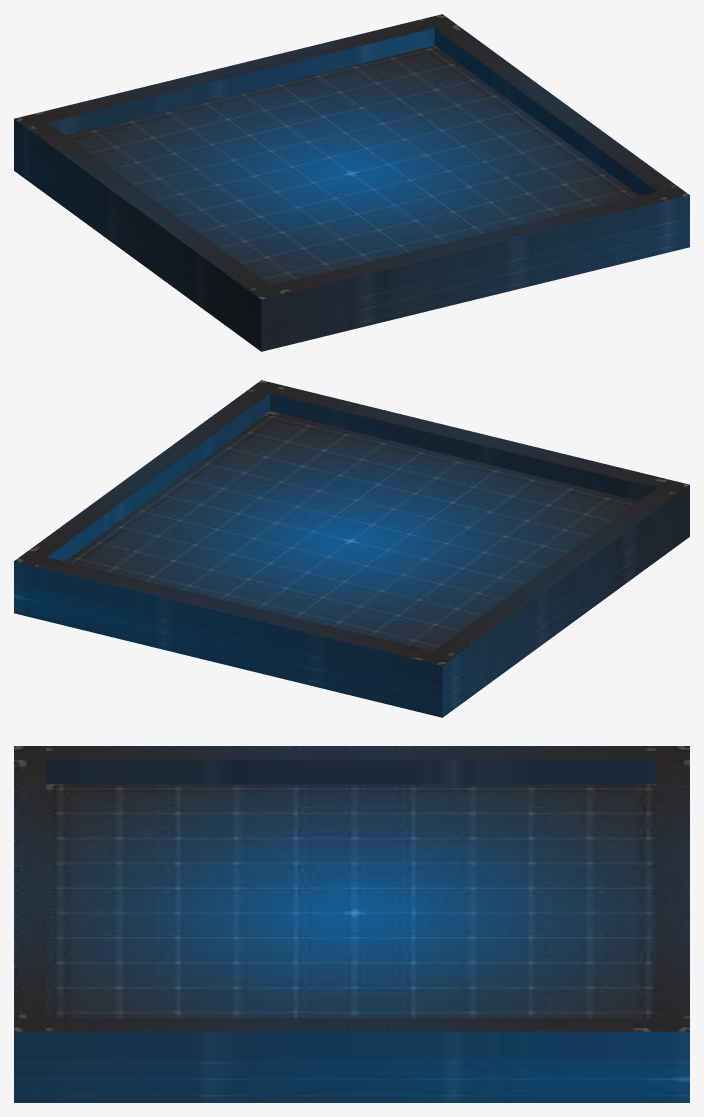
The model's file is base only.fbx.
3 renders of one model, top to bottom at view 1: azimuth 30°, elevation 25°; view 2: azimuth 150°, elevation 25°; view 3: azimuth 270°, elevation 25°, orthographic. The views are drawn at different scales.
Visible parts, largest first — view 1: Cube.002; view 2: Cube.002; view 3: Cube.002.
Boxes of the visible parts, x1,y1,x2,y2 form: Cube.002: (14,14,689,351); Cube.002: (14,380,689,717); Cube.002: (14,746,689,1102).
Bounding box in the file's own units: 771 × 89.48 × 771.
Materials: 1 (1 with a texture image).
